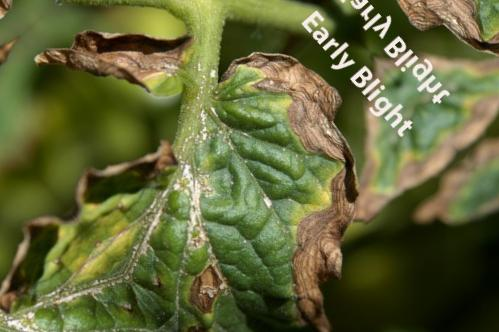Tomato Early blight leaf: (8, 0, 426, 332)
